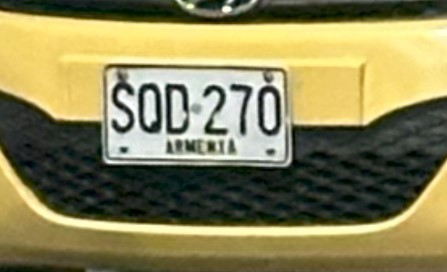number plate: (103, 66, 291, 166)
